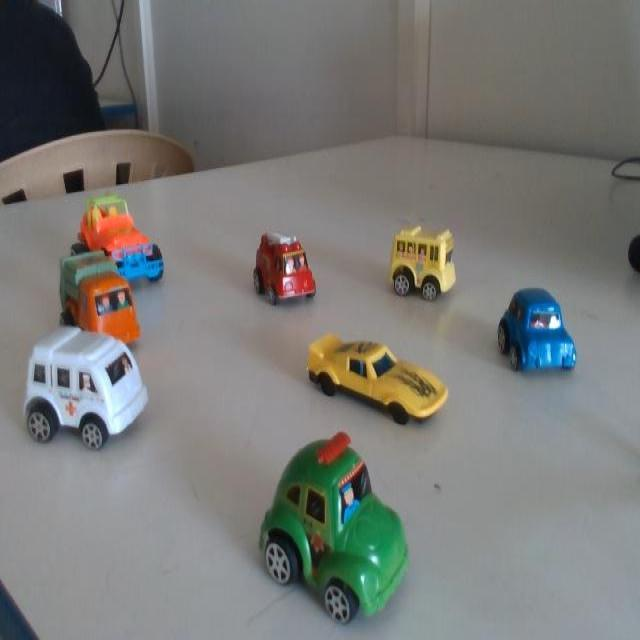car: (265, 438, 417, 620), (27, 306, 164, 476), (313, 320, 443, 440), (245, 218, 318, 324), (93, 189, 171, 288), (382, 221, 464, 315), (506, 286, 579, 382), (69, 242, 132, 352)
